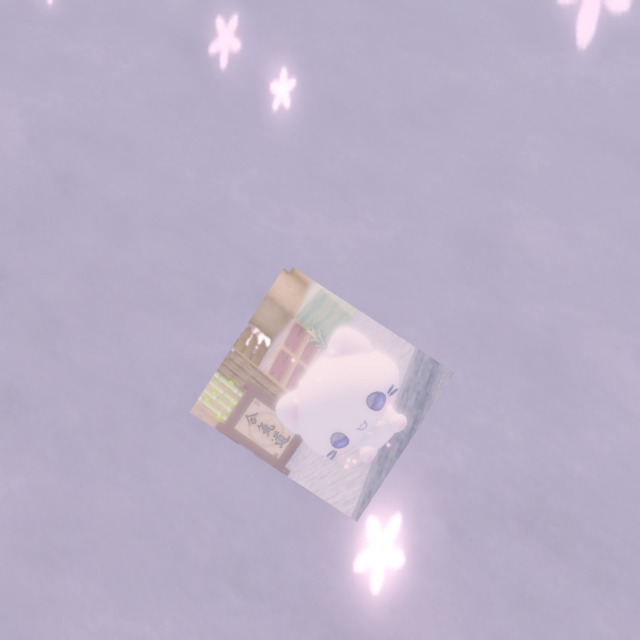urso_branco: (189, 263, 455, 522), (230, 309, 308, 387)
